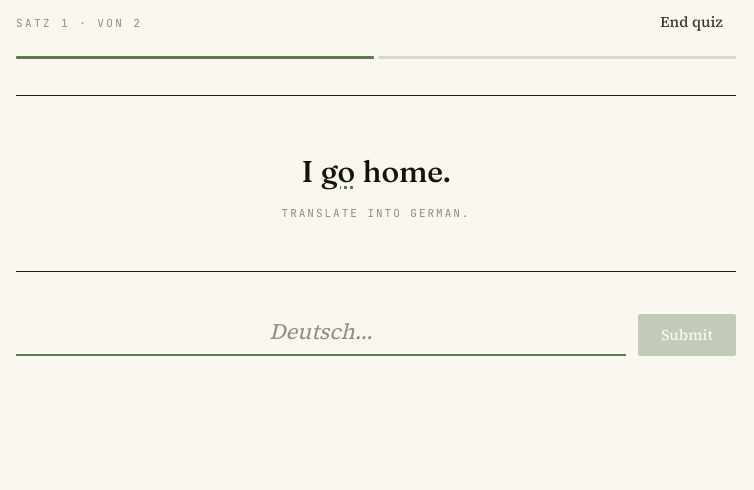
VerbSentenceRunner — hear the reference (graded-card playback) › Space on a graded card speaks the reference German, not the learner answer
The width and height of the screenshot is (754, 490).
In the field with placeholder "Deutsch…": (321, 332) [16,308,626,356], type "Ich laufe nach Hause."
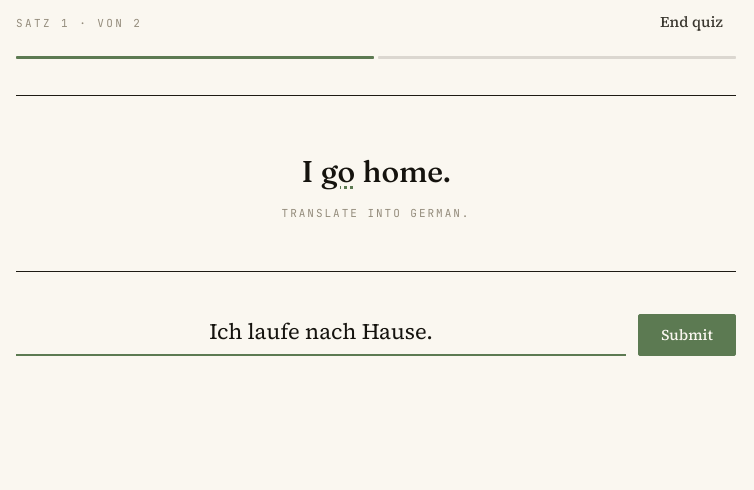
Submit the form, box [16,308,736,356]
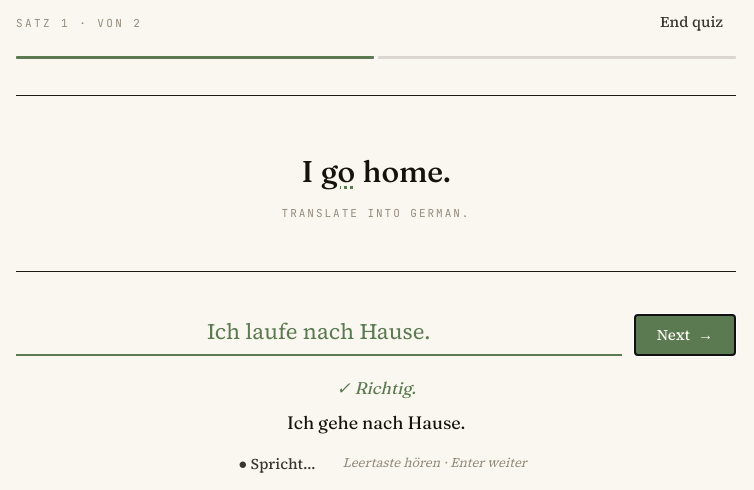
Expected: the text "Ich gehe nach Hause." is shown, [287,411,465,434]
